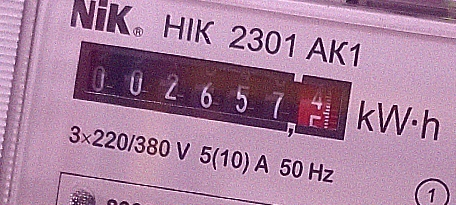0: (88, 62, 108, 93), (126, 65, 145, 97)
2: (161, 70, 181, 102)
4: (308, 83, 326, 110)
5: (232, 82, 252, 114), (306, 112, 323, 128)
6: (197, 78, 215, 109)
7: (267, 87, 286, 121)
screen: (61, 28, 365, 153)
